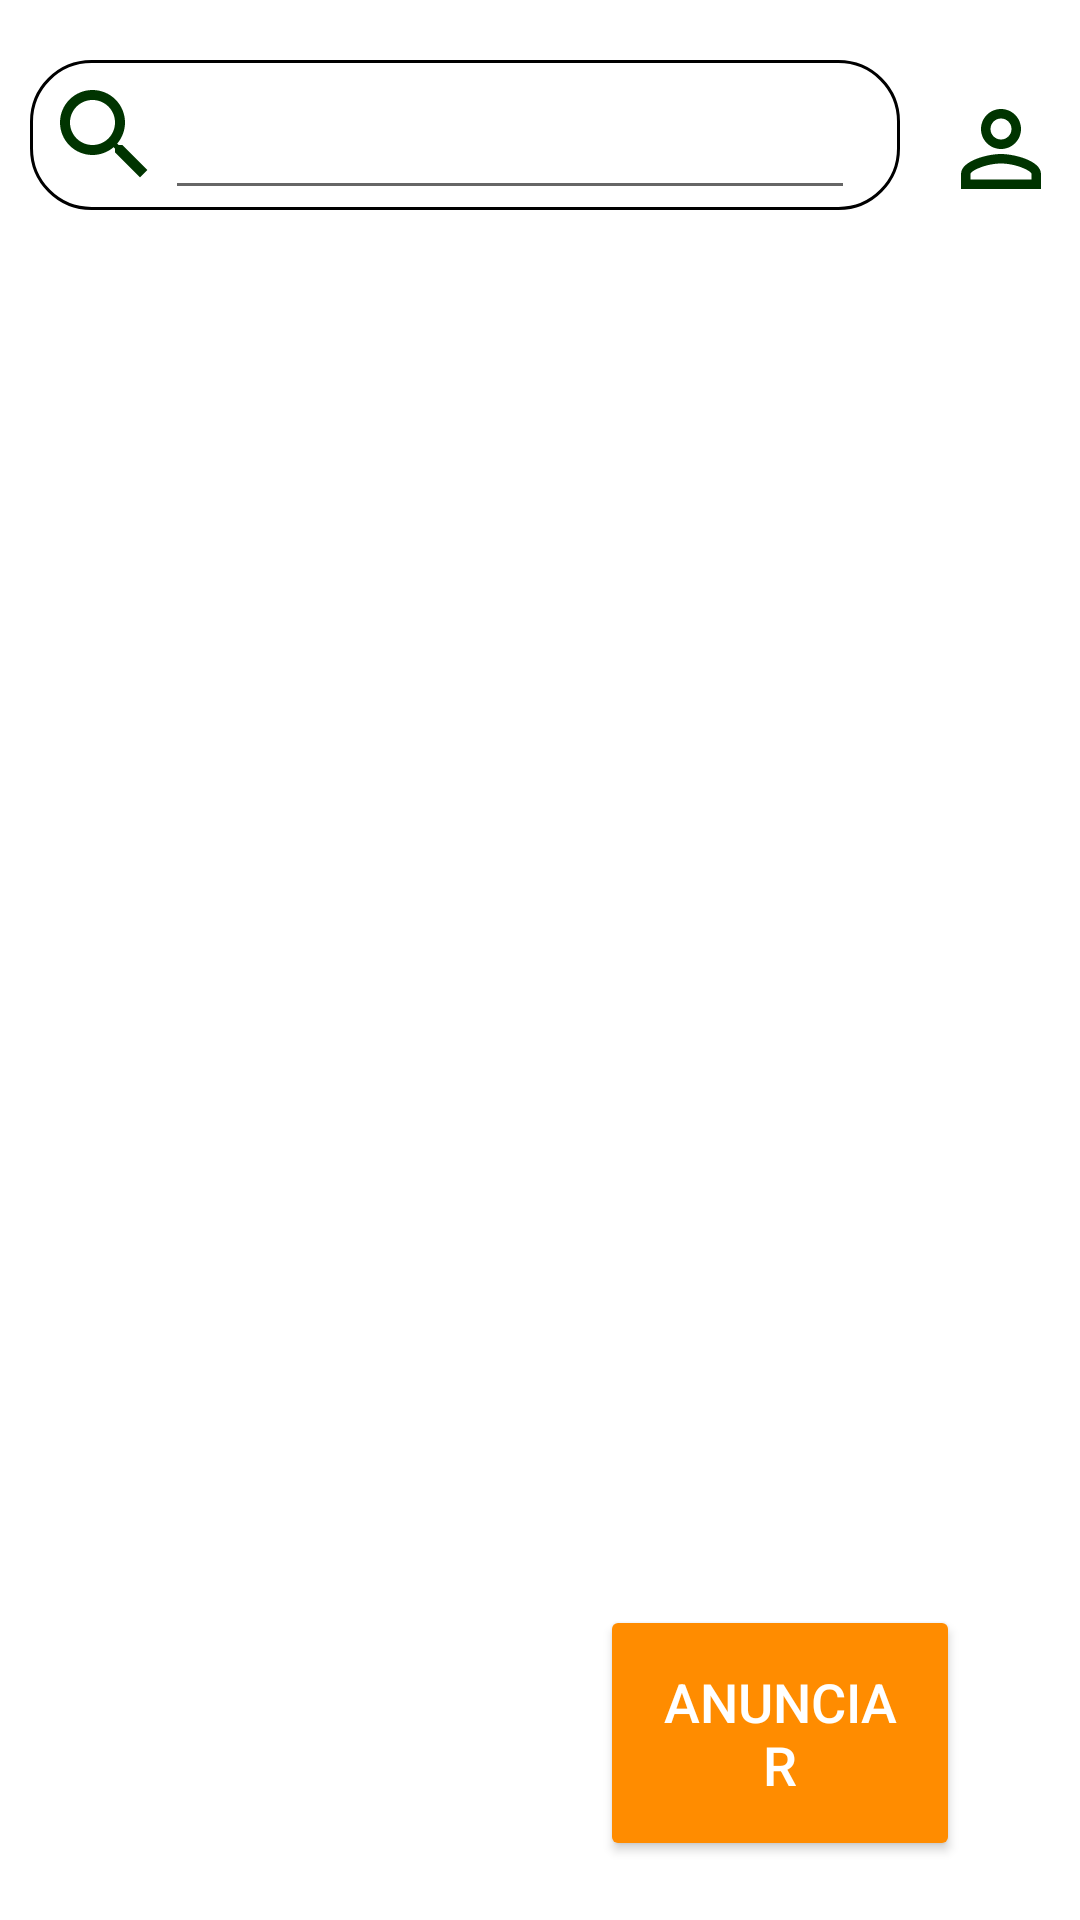

Point at icon controls on the screen. Image size 1080×1920, points as (x,y).
user: (1001,149)
